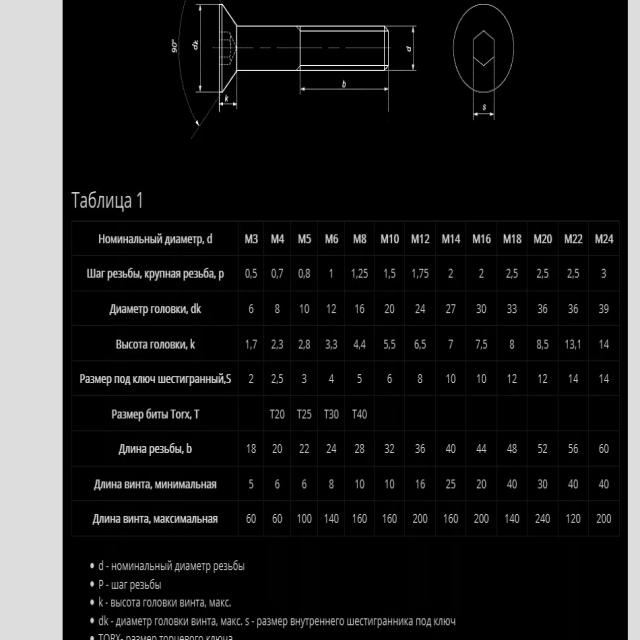marking_line: (177, 0, 218, 139), (298, 71, 390, 114), (196, 3, 218, 93), (389, 24, 417, 73), (472, 94, 497, 123), (218, 93, 238, 114)
numeric: (137, 190, 143, 209), (248, 371, 255, 385), (424, 233, 431, 244), (454, 233, 461, 244), (270, 339, 277, 350), (481, 373, 487, 385), (390, 338, 396, 350), (271, 373, 277, 385), (271, 443, 277, 455), (390, 478, 396, 490), (414, 442, 420, 454), (306, 512, 312, 524), (393, 234, 400, 244), (251, 339, 258, 349), (306, 409, 313, 419), (301, 479, 308, 489), (361, 233, 367, 244), (547, 233, 553, 244), (601, 267, 607, 278), (479, 268, 485, 279), (448, 268, 454, 279), (363, 268, 369, 279), (298, 268, 304, 279), (304, 303, 310, 314), (331, 303, 337, 314), (384, 303, 390, 314), (573, 373, 579, 384), (482, 339, 488, 350), (383, 339, 389, 350), (332, 339, 338, 350), (278, 373, 284, 384), (359, 479, 365, 490), (304, 443, 310, 454), (331, 442, 337, 453), (542, 478, 548, 489), (573, 478, 579, 489), (541, 514, 547, 525), (453, 513, 459, 524), (301, 513, 307, 524), (542, 234, 548, 244), (608, 234, 614, 244), (575, 267, 580, 279), (543, 269, 549, 279), (329, 267, 334, 279), (252, 268, 258, 278), (274, 304, 280, 314), (445, 304, 451, 314), (481, 303, 487, 313), (542, 303, 548, 313), (570, 338, 575, 350), (536, 338, 541, 350), (475, 339, 481, 349), (451, 373, 456, 385), (361, 338, 366, 350), (325, 339, 331, 349), (298, 339, 304, 349), (329, 374, 335, 384), (334, 410, 340, 420), (361, 409, 367, 419), (384, 444, 390, 454), (389, 444, 395, 454), (446, 443, 451, 455), (507, 443, 512, 455), (512, 478, 517, 490), (576, 514, 582, 524), (509, 514, 515, 524), (478, 513, 484, 523), (251, 513, 257, 523), (272, 512, 277, 524), (328, 514, 334, 524), (362, 514, 368, 524), (306, 233, 311, 244), (333, 234, 338, 245), (486, 233, 491, 244), (603, 233, 608, 244), (391, 268, 396, 279), (424, 268, 429, 279), (271, 267, 276, 278), (245, 267, 250, 278), (360, 303, 365, 314), (415, 304, 420, 315), (451, 303, 456, 314), (476, 303, 481, 314), (512, 303, 517, 314), (568, 303, 573, 314), (574, 304, 579, 315), (599, 303, 604, 314), (604, 303, 609, 314), (604, 339, 609, 350), (604, 373, 609, 384), (510, 339, 515, 350), (512, 373, 517, 384), (387, 373, 392, 384), (353, 338, 358, 349), (329, 408, 334, 419), (275, 478, 280, 489), (354, 479, 359, 490), (251, 443, 256, 454), (277, 443, 282, 454), (299, 443, 304, 454), (326, 442, 331, 453), (355, 443, 360, 454), (360, 443, 365, 454), (420, 443, 425, 454), (415, 479, 420, 490), (421, 479, 426, 490), (481, 443, 486, 454), (538, 443, 543, 454), (569, 443, 574, 454), (573, 443, 578, 454), (599, 442, 604, 453), (604, 443, 609, 454), (477, 478, 482, 489), (482, 479, 487, 490), (537, 478, 542, 489), (568, 478, 573, 489), (604, 478, 609, 489), (607, 512, 612, 523), (571, 513, 576, 524), (515, 512, 520, 523), (474, 513, 479, 524), (484, 513, 489, 524), (412, 513, 417, 524), (418, 513, 423, 524), (423, 513, 428, 524), (246, 513, 251, 524), (296, 513, 301, 524), (334, 513, 339, 524), (357, 513, 362, 524), (382, 514, 387, 525), (387, 513, 392, 524), (516, 235, 522, 244), (420, 304, 426, 313), (302, 374, 308, 383), (277, 514, 283, 523), (253, 234, 258, 244), (573, 234, 578, 244), (578, 234, 583, 244), (567, 269, 572, 279), (537, 268, 542, 278), (506, 269, 511, 279), (419, 269, 424, 279), (279, 268, 284, 278), (249, 304, 254, 314), (390, 304, 395, 314), (507, 303, 512, 313), (538, 304, 543, 314), (544, 339, 549, 349), (448, 339, 453, 349), (421, 340, 426, 350), (414, 339, 419, 349), (418, 373, 423, 383), (357, 374, 362, 384), (279, 339, 284, 349), (280, 409, 285, 419), (302, 409, 307, 419), (357, 409, 362, 419), (329, 479, 334, 489), (476, 444, 481, 454), (513, 443, 518, 453), (543, 443, 548, 453), (446, 479, 451, 489), (451, 479, 456, 489), (507, 479, 512, 489), (599, 479, 604, 489), (597, 514, 602, 524), (536, 513, 541, 523), (449, 513, 454, 523), (392, 514, 397, 524), (600, 338, 604, 350), (505, 513, 509, 525), (279, 235, 284, 244), (513, 269, 518, 278), (358, 269, 363, 278), (451, 444, 456, 453), (443, 514, 448, 523), (420, 233, 424, 244), (481, 233, 485, 244), (351, 268, 355, 279), (538, 373, 542, 384), (543, 373, 547, 384), (306, 338, 310, 349), (275, 409, 279, 420), (601, 513, 605, 524), (546, 513, 550, 524), (389, 234, 393, 244), (512, 234, 516, 244), (384, 269, 388, 279), (412, 269, 416, 279), (578, 339, 582, 349), (246, 339, 250, 349), (249, 479, 253, 489), (566, 514, 570, 524), (306, 268, 310, 277), (300, 304, 304, 313), (565, 340, 569, 349), (507, 374, 511, 383), (247, 444, 251, 453), (353, 512, 356, 524), (451, 233, 454, 244), (600, 374, 603, 385), (569, 374, 572, 385), (327, 304, 330, 314), (355, 304, 358, 314), (477, 374, 480, 384), (447, 374, 450, 384), (385, 479, 388, 489), (325, 513, 328, 523)
